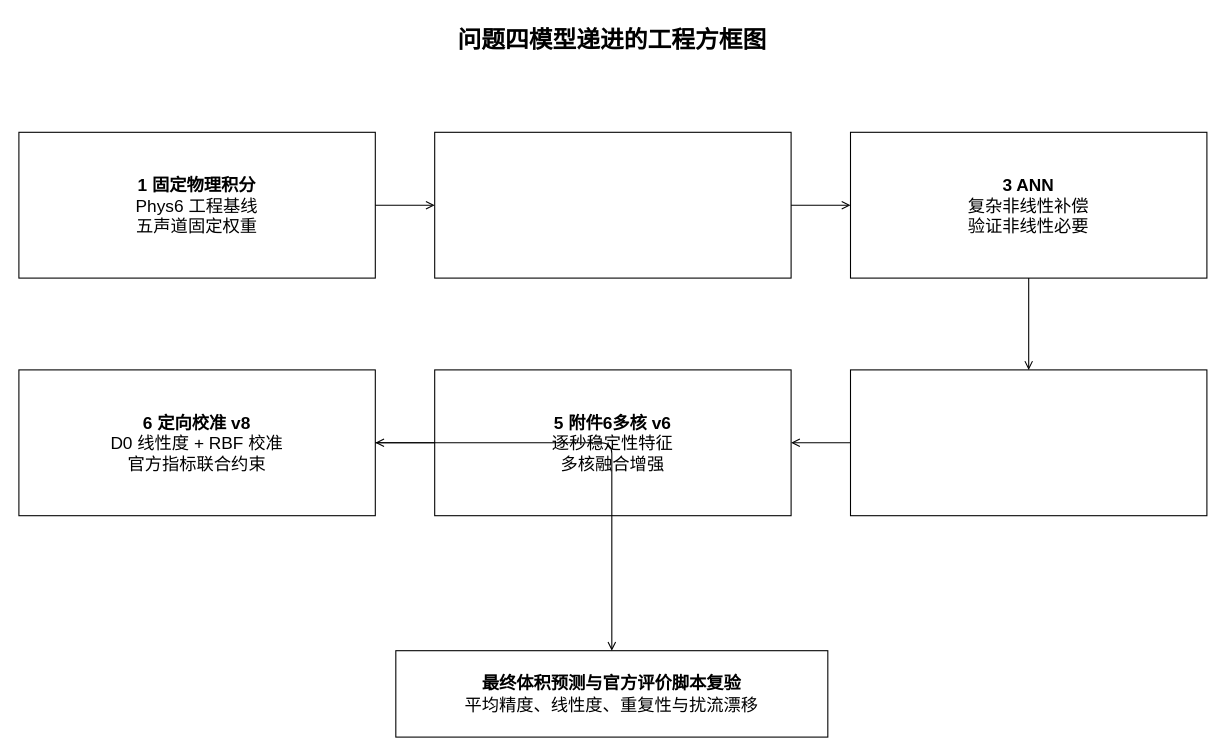
Some shapes in this 1226 by 756 pixel diagram are drawn without their labels. The centre of each missing label's shape, as x and y in pixels:
"2 Ridge 线性残差补偿 验证剖面特征有效" goes at pixel 612 204.
"4 紧凑 RBF-KRR 紧凑物理特征 受控连续非线性" goes at pixel 1028 442.
